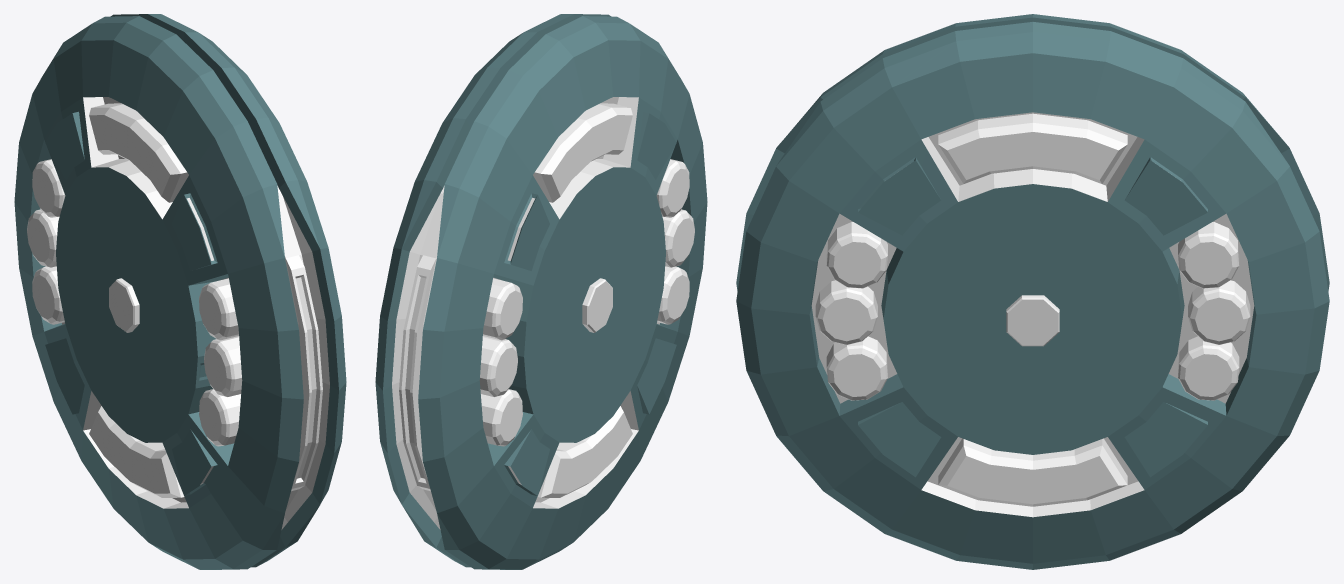
File: ss_hab2.glb
3 views of the same model, side by side, from view 1: azimuth 30°, elevation 25°; view 2: azimuth 150°, elevation 25°; view 3: azimuth 270°, elevation 25° (orthographic). The views are drawn at different scales.
Parts seen in each view (by area): view 1: Cylinder; view 2: Cylinder; view 3: Cylinder.
Boxes of the visible parts, box(x1,y1,x2,y2) form: Cylinder: box(14, 14, 346, 569); Cylinder: box(375, 14, 707, 569); Cylinder: box(736, 14, 1329, 569).
Size of the model in its own units: 5 by 20.76 by 20.5.
